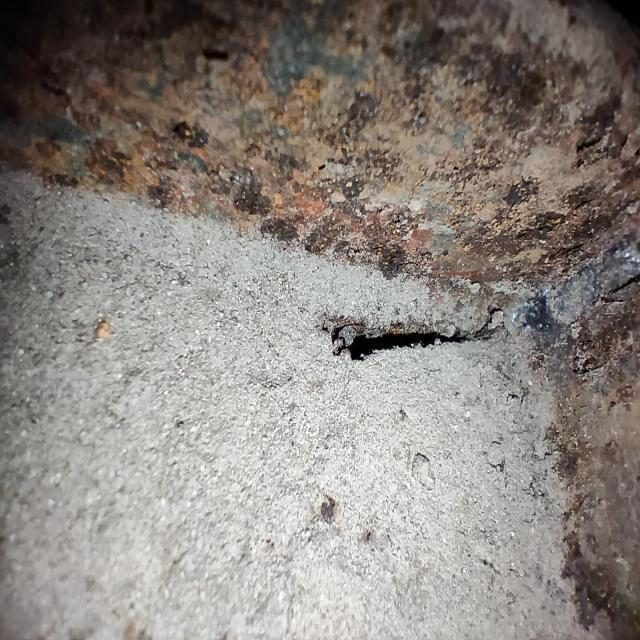Crack: (324, 302, 509, 369)
